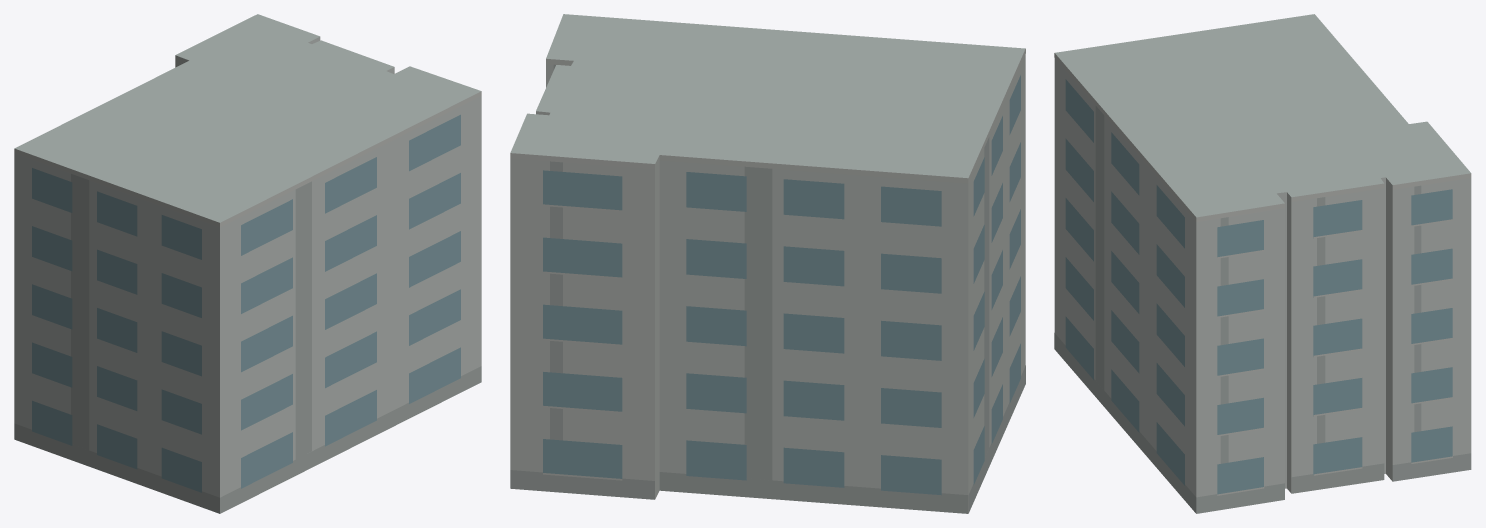
File: survey-upis-32875336.glb
3 views of the same model, side by side, from view 1: azimuth 30°, elevation 25°; view 2: azimuth 150°, elevation 25°; view 3: azimuth 270°, elevation 25° (orthographic). The views are drawn at different scales.
Visible parts, largest first — view 1: survey-upis-32875336.tmp; view 2: survey-upis-32875336.tmp; view 3: survey-upis-32875336.tmp.
Part boxes in pixels (box(x1,y1,x2,y2)): survey-upis-32875336.tmp: box(14, 14, 481, 513); survey-upis-32875336.tmp: box(510, 14, 1025, 513); survey-upis-32875336.tmp: box(1054, 14, 1471, 513).
Size of the model in its own units: 22.45 by 15.25 by 19.44.
